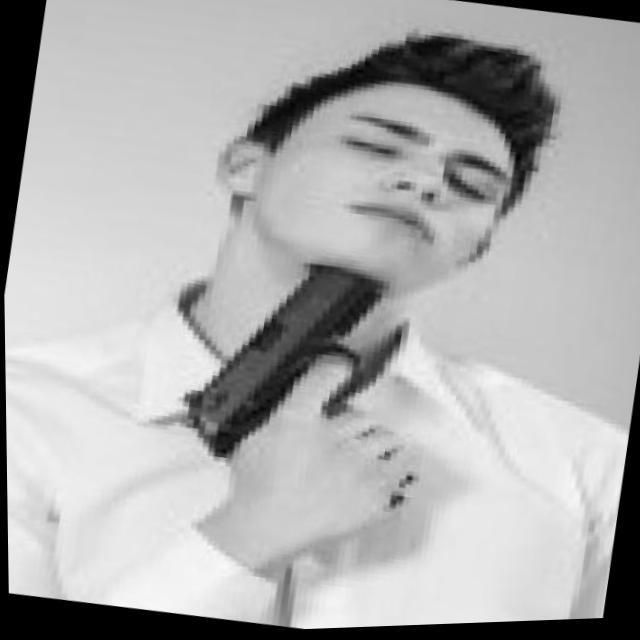weapon: (151, 234, 462, 541)
